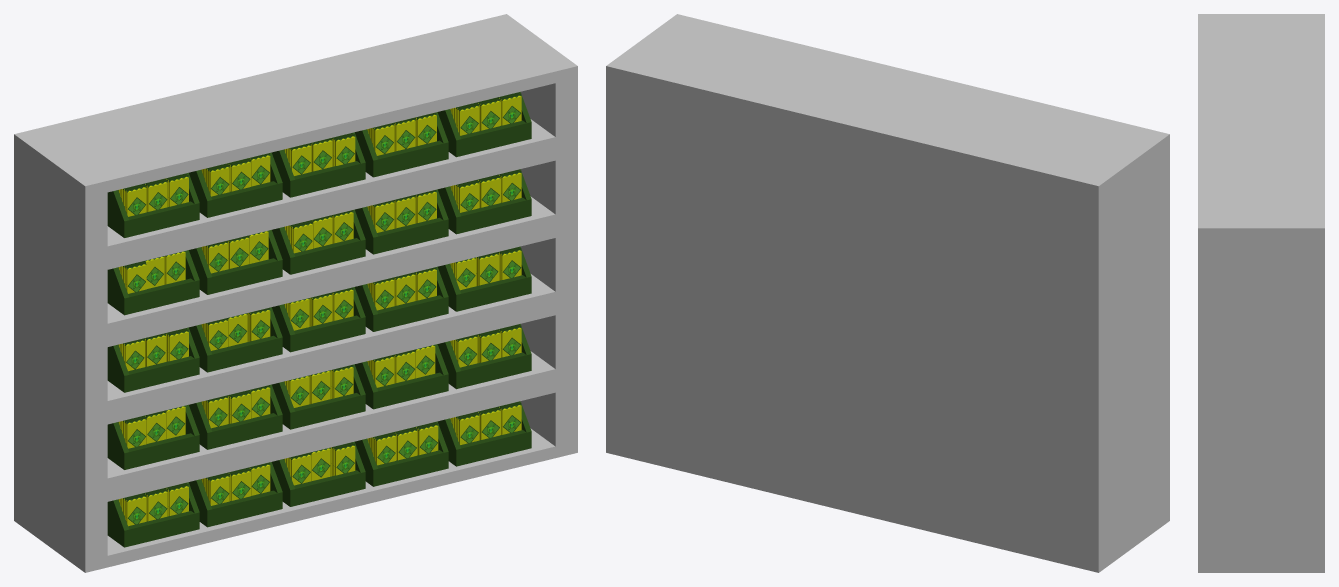
File: Evelmart_Shelf_Poison.fbx
3 views of the same model, side by side, from view 1: azimuth 30°, elevation 25°; view 2: azimuth 150°, elevation 25°; view 3: azimuth 270°, elevation 25° (orthographic). The views are drawn at different scales.
Visible parts, largest first — view 1: Long Bookshelf, Cube.012, Cube.014, Cube.013, Cube.015, Cube.011, Poison, Poison.004, Poison.002, Poison.001, Poison.003; view 2: Long Bookshelf; view 3: Long Bookshelf.
Part boxes in pixels (x1=…): Long Bookshelf: x1=14, y1=14, x2=577, y2=572; Cube.012: x1=107, y1=324, x2=531, y2=469; Cube.014: x1=107, y1=169, x2=531, y2=315; Cube.013: x1=107, y1=246, x2=531, y2=392; Cube.015: x1=107, y1=92, x2=531, y2=237; Cube.011: x1=107, y1=401, x2=531, y2=547; Poison: x1=118, y1=401, x2=521, y2=526; Poison.004: x1=118, y1=92, x2=521, y2=216; Poison.002: x1=118, y1=246, x2=521, y2=371; Poison.001: x1=118, y1=324, x2=521, y2=448; Poison.003: x1=118, y1=169, x2=521, y2=293; Long Bookshelf: x1=606, y1=14, x2=1169, y2=572; Long Bookshelf: x1=1198, y1=14, x2=1324, y2=572.
Bounding box in the file's own units: 805 × 604 × 201.
